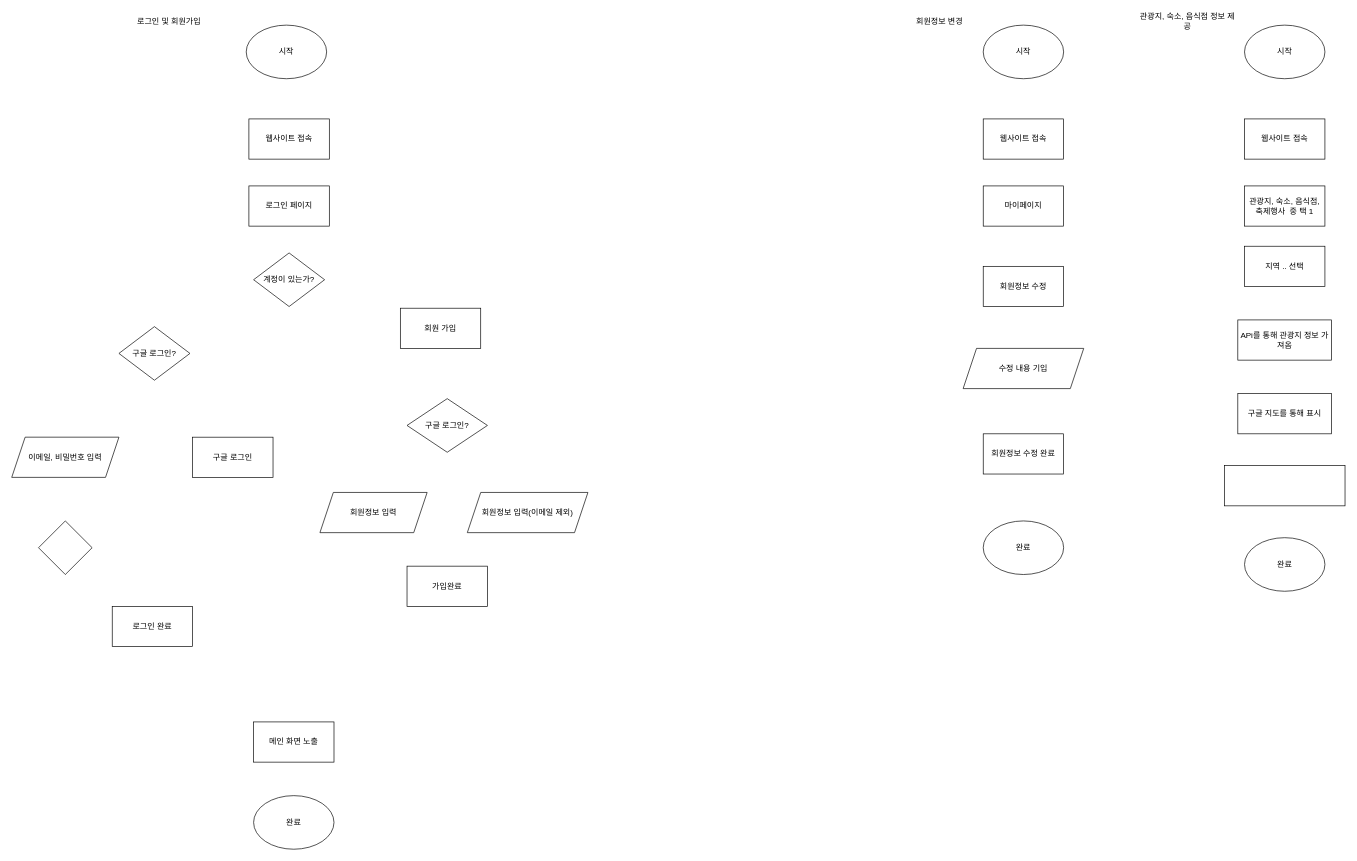
Image size: 1357x861. Some labels were removed from this diagram. Each missing label, with the box of its shape:
정보 확인: (38, 520, 92, 575)
지도 클릭으로 상세 정보 보기: (1224, 465, 1345, 506)
